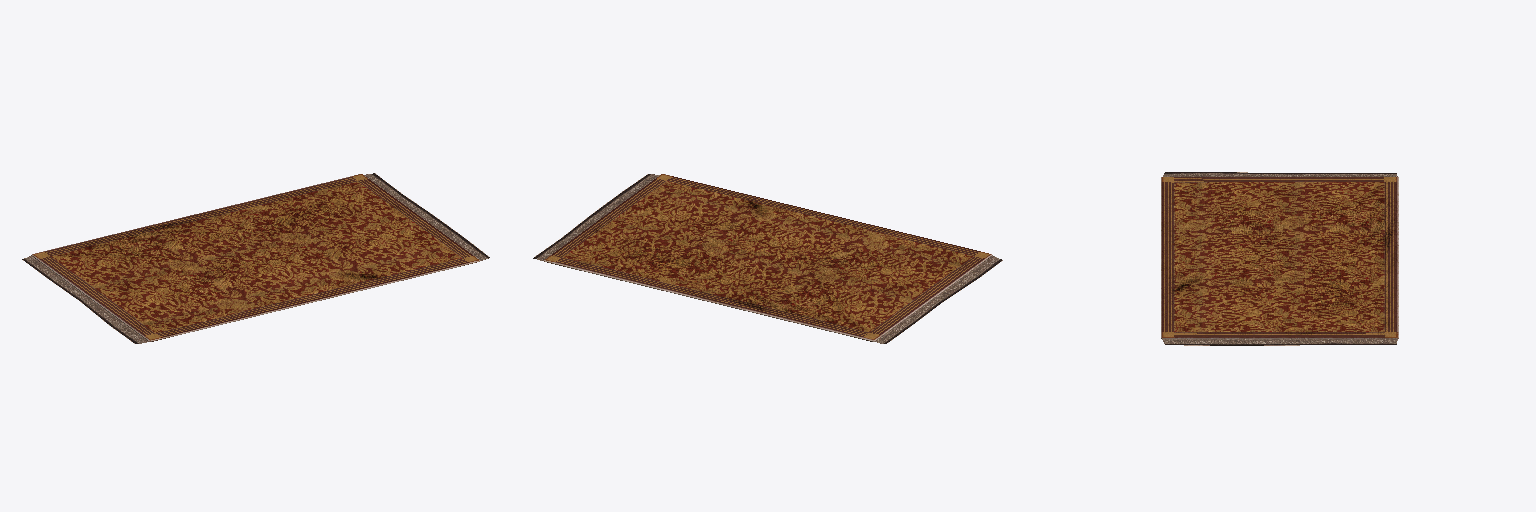
The picture shows the model from 3 angles: view 1: azimuth 30°, elevation 25°; view 2: azimuth 150°, elevation 25°; view 3: azimuth 270°, elevation 25°; orthographic projection.
Visible parts, largest first — view 1: Carpet_C; view 2: Carpet_C; view 3: Carpet_C.
Part boxes in pixels (x1,y1,x2,y2): Carpet_C: (22,173,489,343); Carpet_C: (533,174,1002,343); Carpet_C: (1161,172,1398,345).
Size of the model in its own units: 331 by 5.1 by 191.
1 materials, 1 textured.